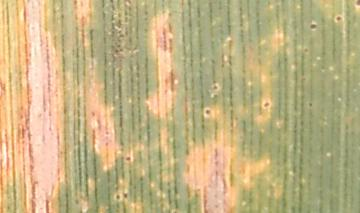tarspot: (307, 21, 320, 31), (334, 14, 344, 25), (203, 108, 213, 118), (124, 155, 136, 163), (300, 47, 311, 55), (121, 192, 131, 200), (262, 101, 272, 109), (209, 84, 220, 91), (114, 193, 121, 201), (307, 102, 314, 108), (354, 1, 360, 8), (104, 130, 110, 136)
